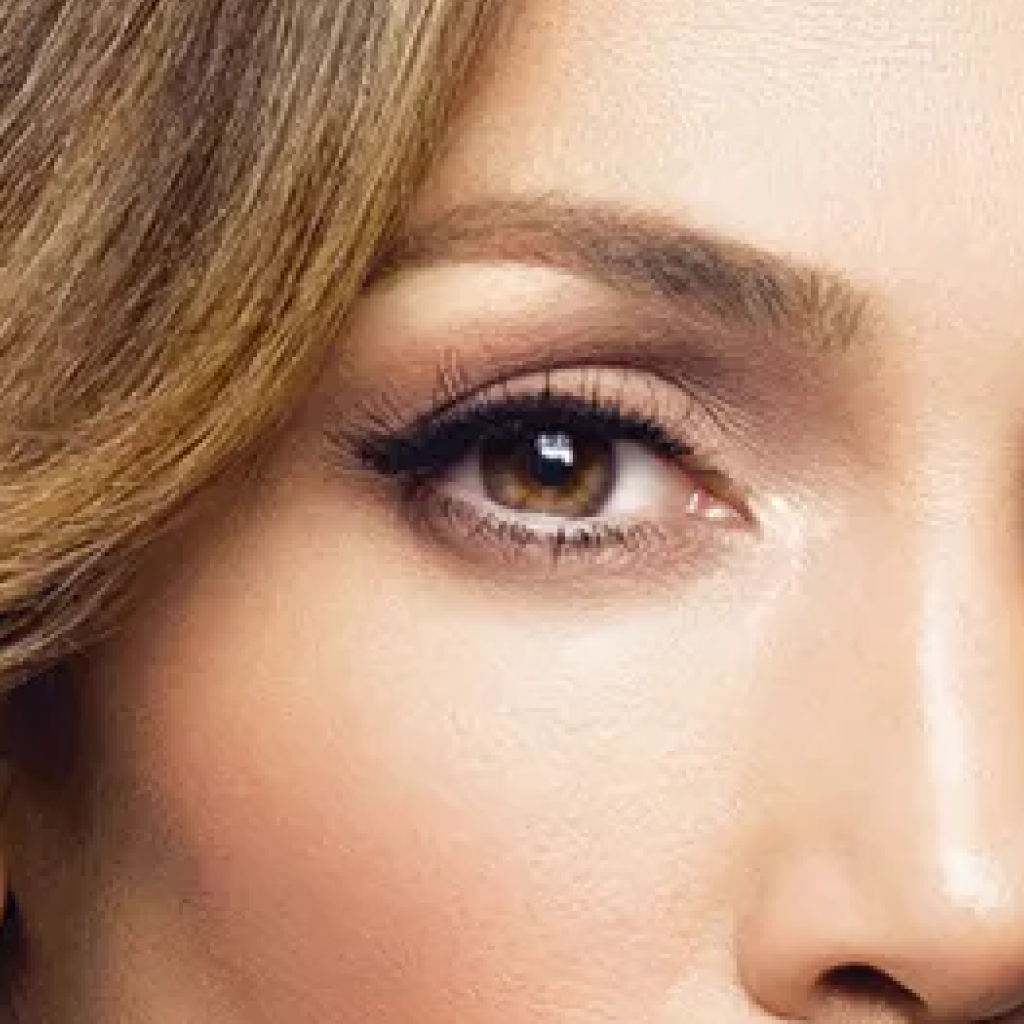iris: (481, 415, 617, 514)
pupil: (522, 430, 579, 489)
sclera: (599, 440, 685, 513), (456, 452, 484, 495)
